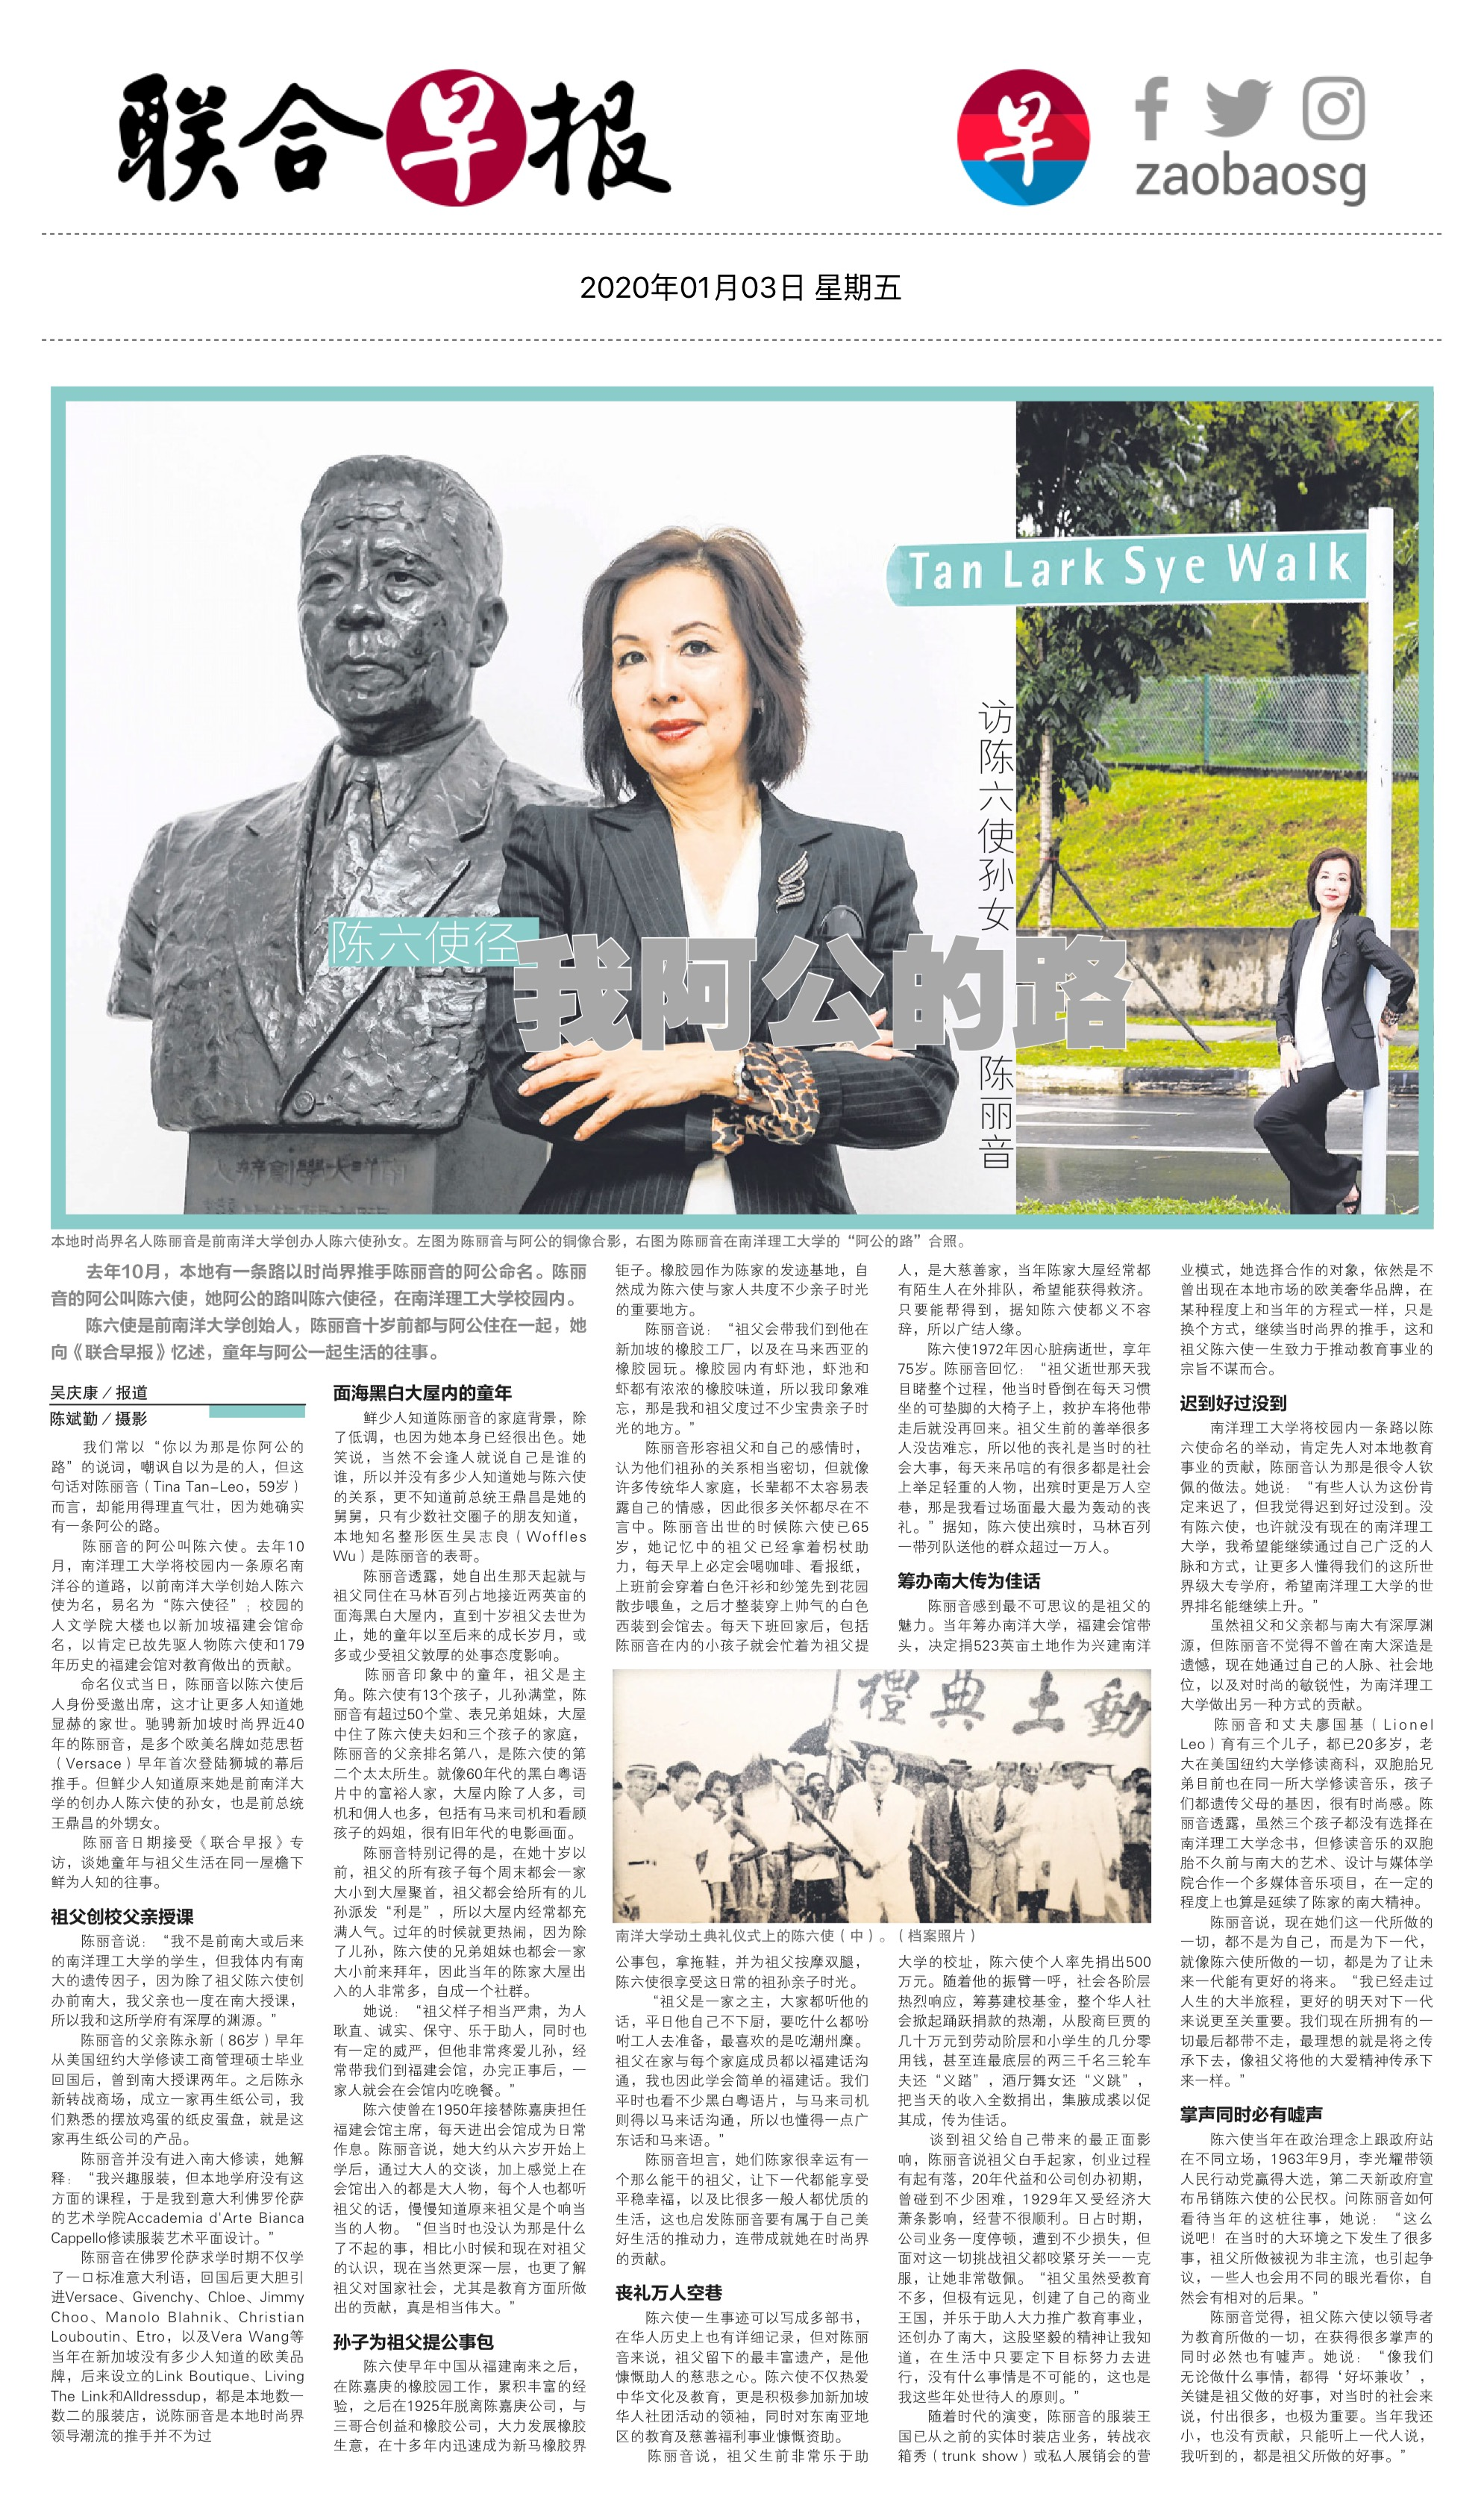heading: (502, 918, 1147, 1062)
